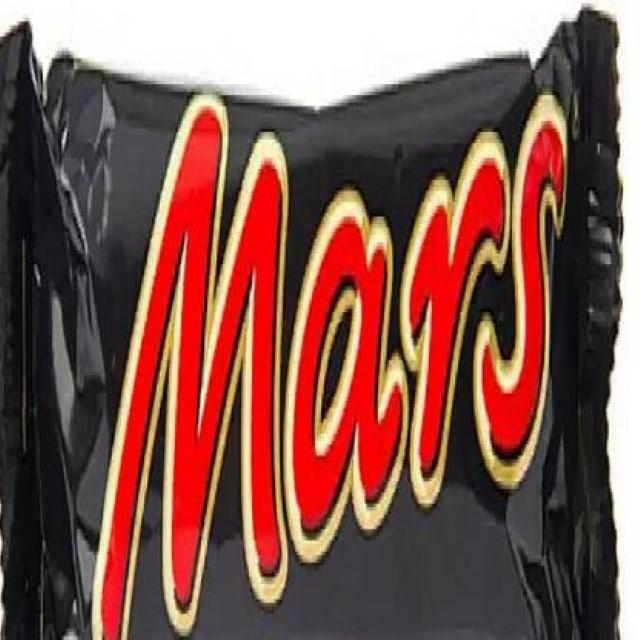mars_chocolate: (8, 31, 640, 639)
